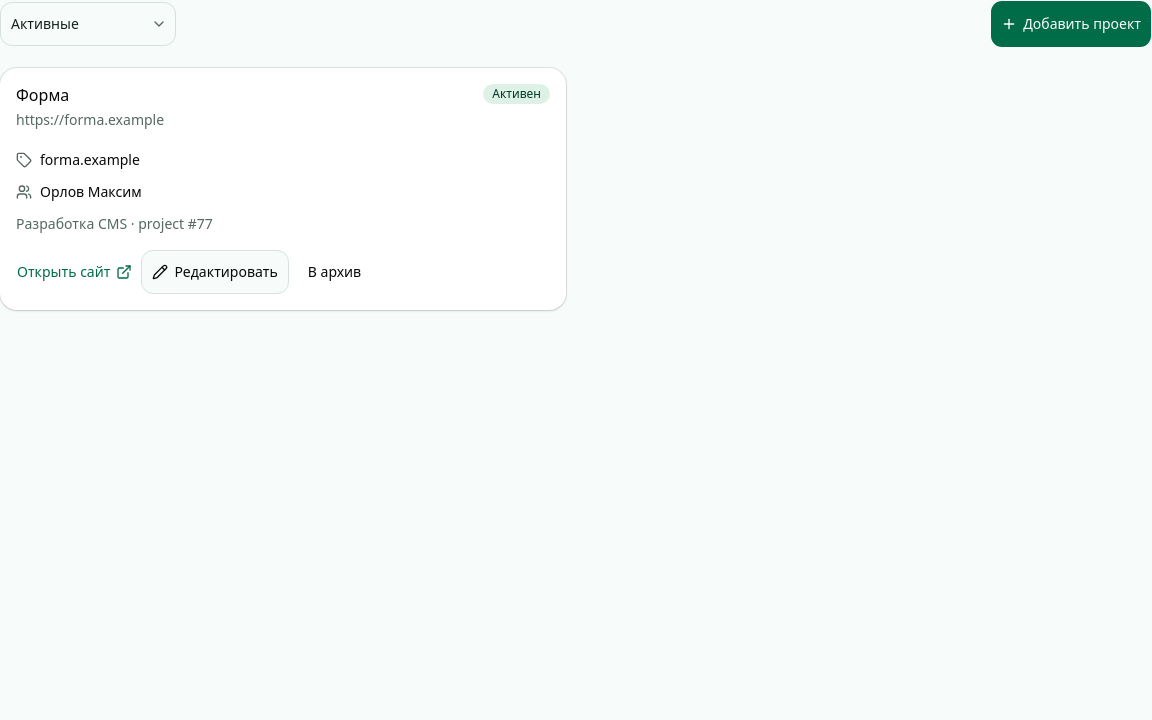
Scenario: project management › offers to reload only the list after a confirmed save
The width and height of the screenshot is (1152, 720).
Step 1. Click the button "Редактировать" → (215, 272), box [141,250,289,294]
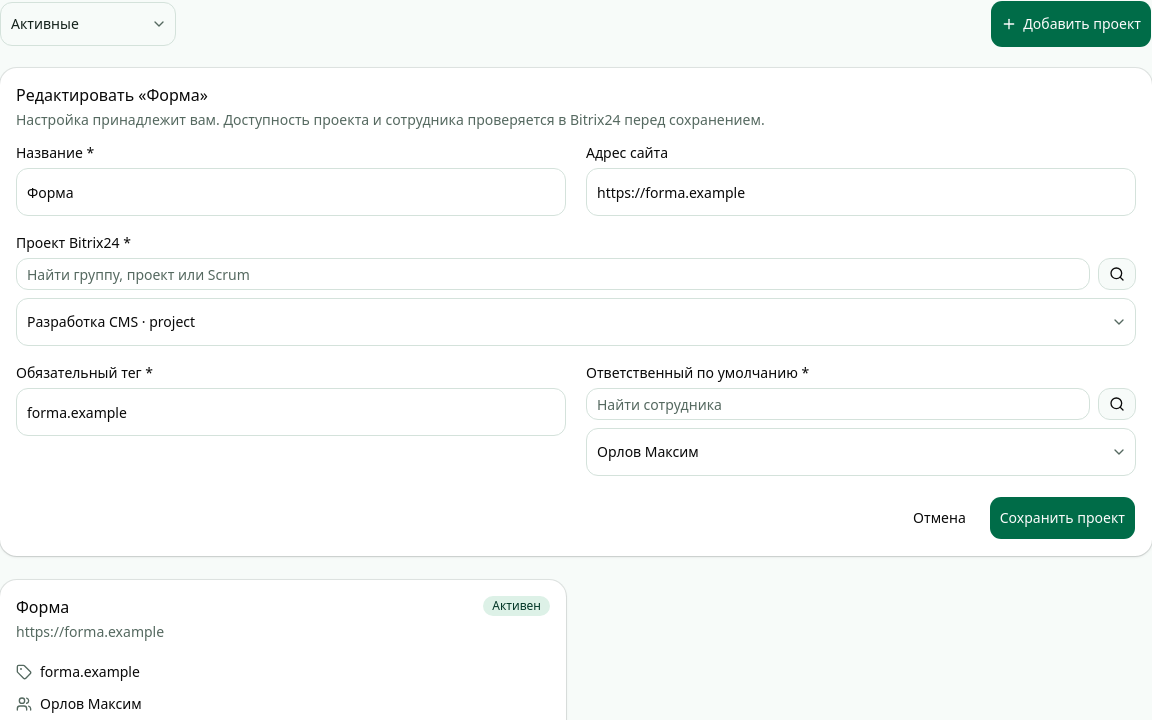
Step 2. Click the button "Сохранить проект" → (1062, 518), box [989,496,1136,540]
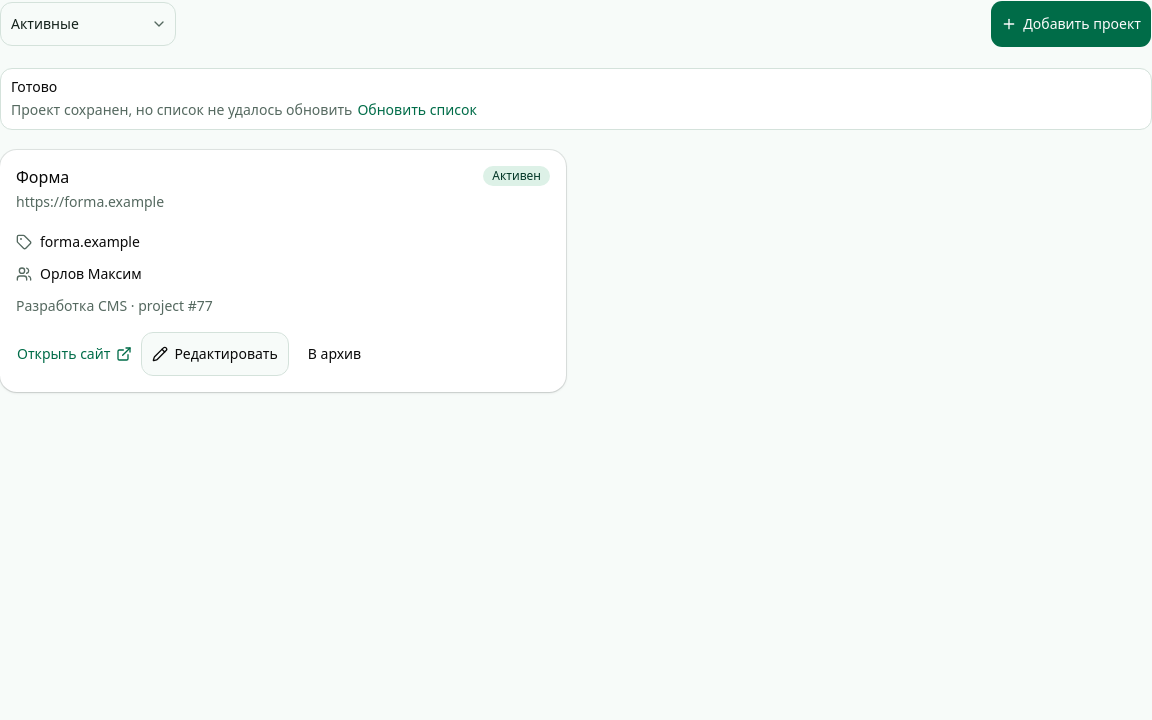
Step 3. Click the button "Обновить список" → (417, 110), box [356,99,478,121]
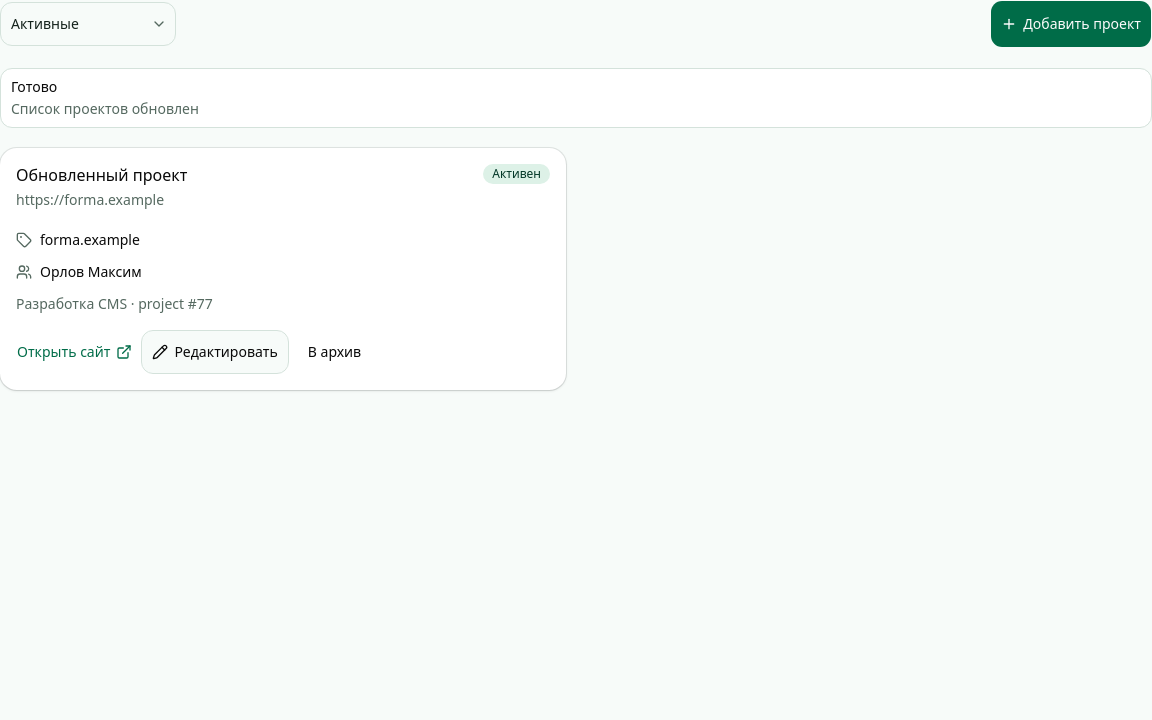
Now the text "Обновленный проект" is shown, box [16,164,187,186]
